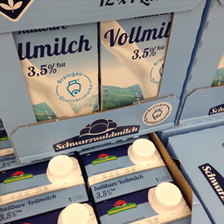milk: (3, 22, 103, 126), (98, 12, 181, 115)
